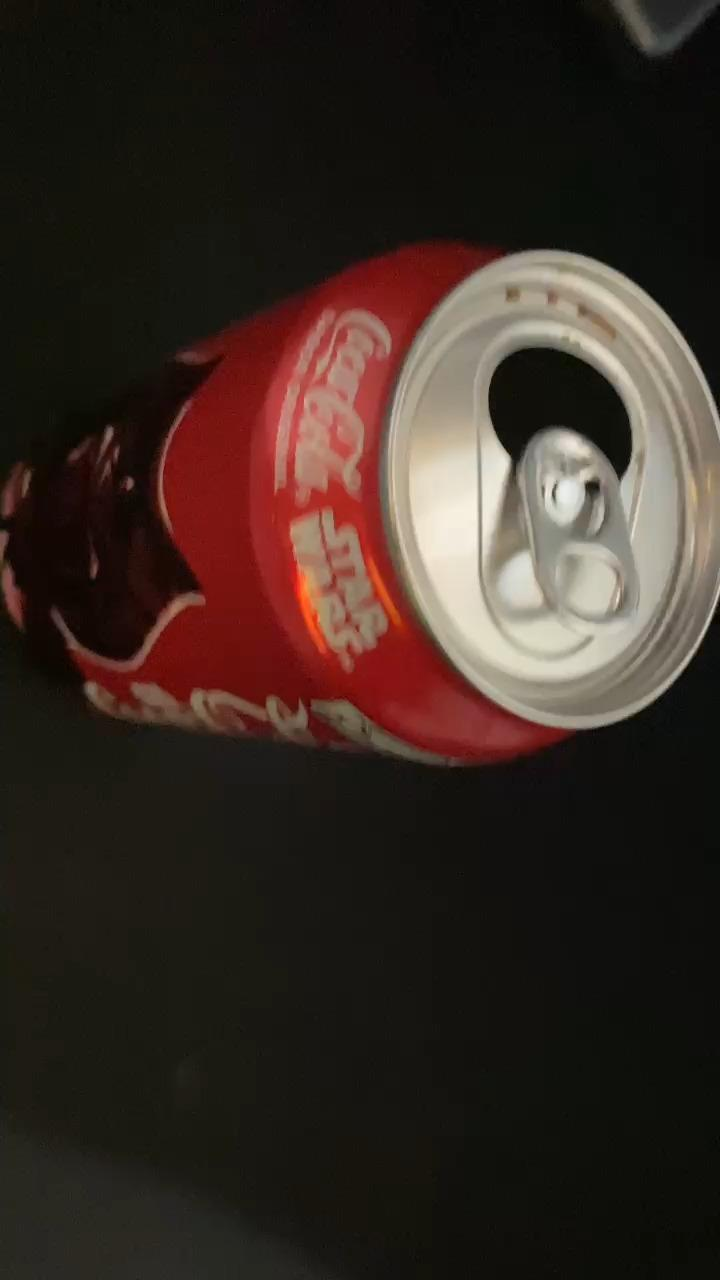coke: (2, 239, 708, 759)
